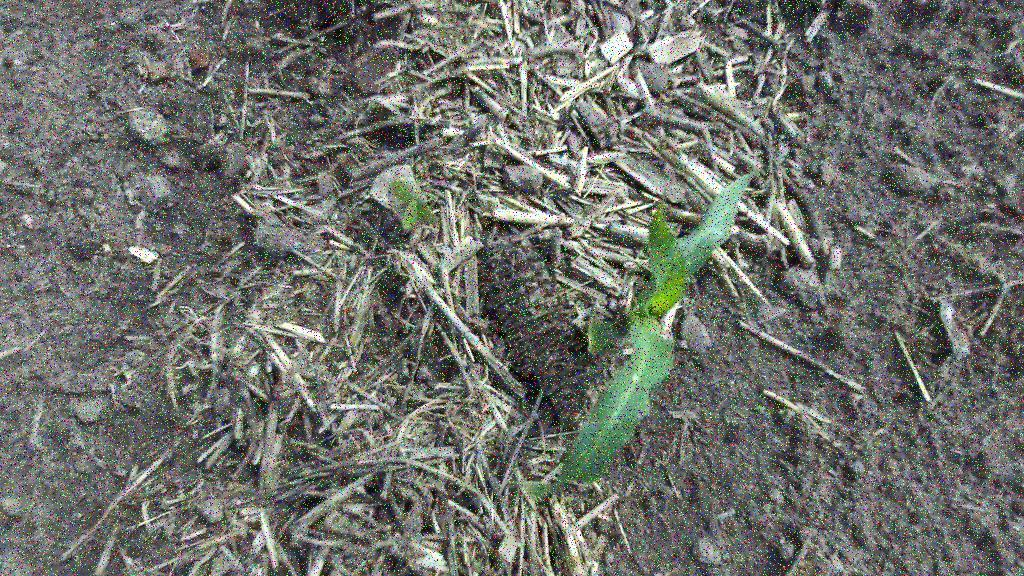BroWeed: (389, 170, 439, 232), (781, 409, 797, 424), (777, 406, 792, 415), (753, 403, 766, 412), (403, 321, 410, 334), (163, 135, 171, 143), (795, 374, 801, 382)
Maize: (516, 130, 760, 528)
